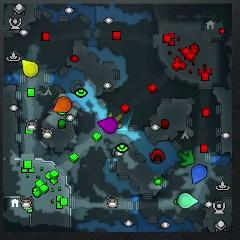p1: (190, 164, 208, 184)
p2: (178, 192, 199, 209)
p3: (98, 117, 117, 134)
p4: (20, 58, 39, 78)
p5: (53, 97, 71, 115)
x2: (107, 112, 123, 129)
x4: (178, 149, 194, 167)
